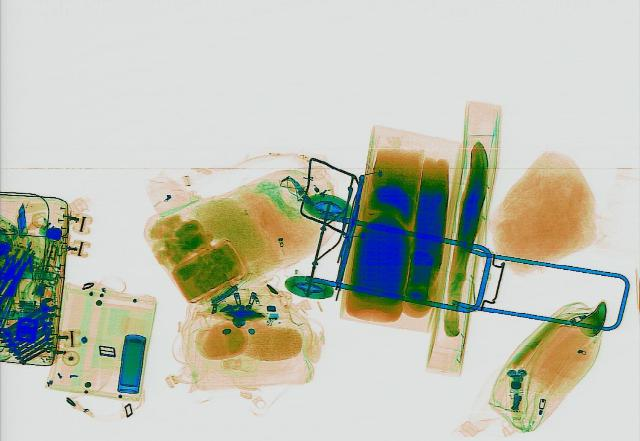Wrench: (2, 295, 62, 334)
